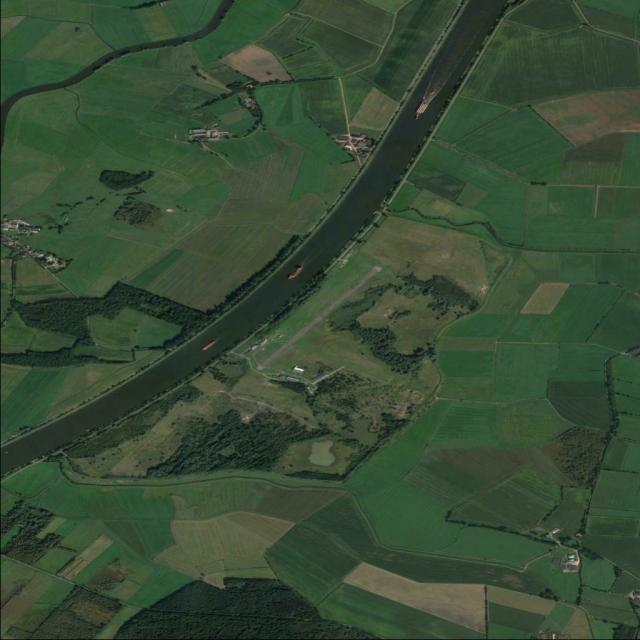ship: (286, 264, 305, 282)
